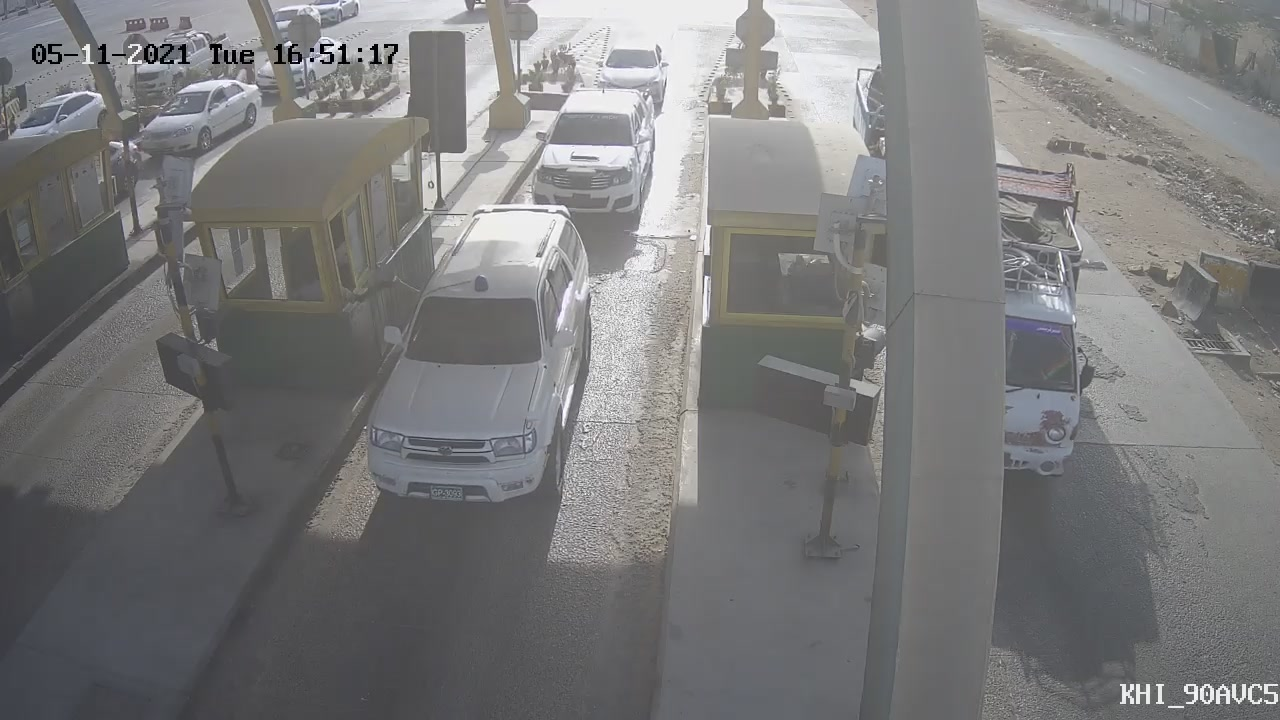F1: (339, 183, 614, 539), (509, 68, 678, 231)
